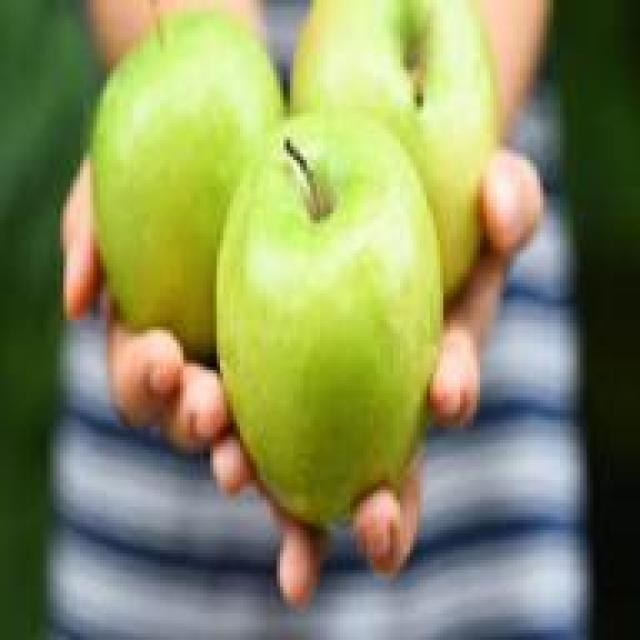apple: (220, 116, 433, 536), (97, 20, 293, 377), (294, 3, 514, 290)
